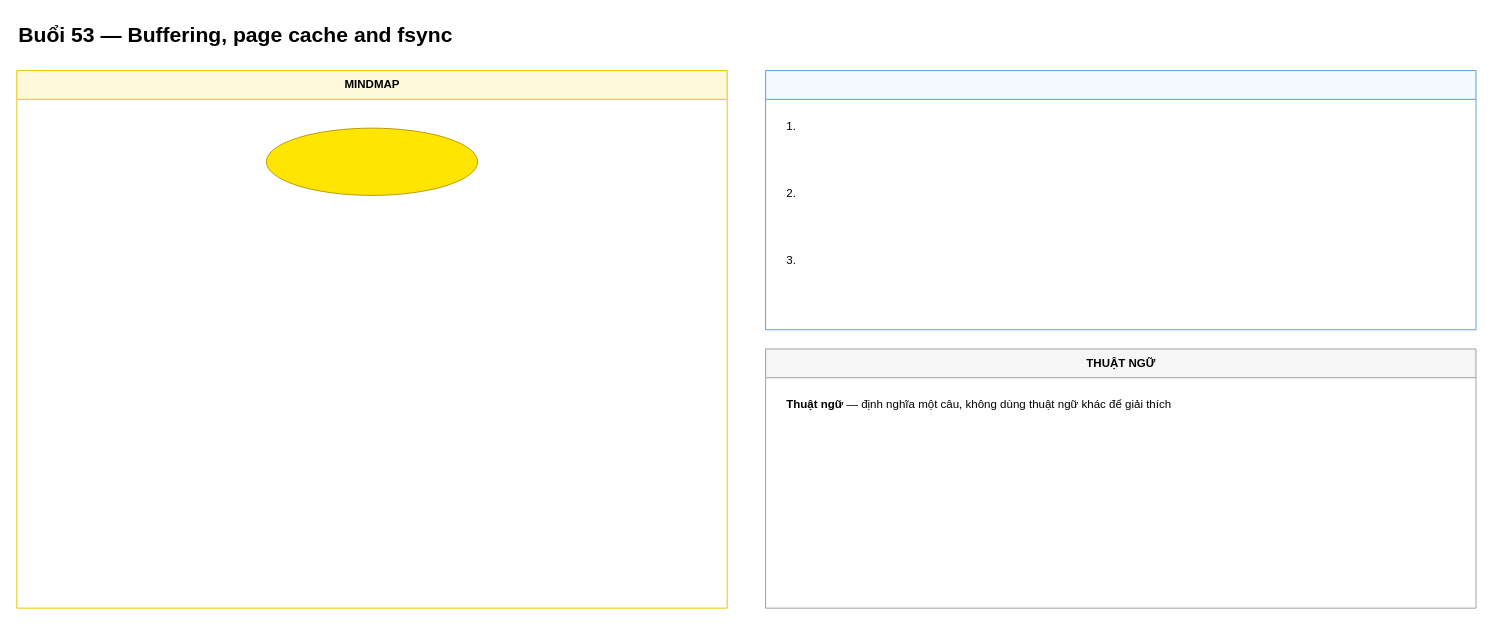
Some shapes in this 1493 by 625 pixel diagram are drawn without their labels. The box of each missing label's shape, as (x1, y1, x2, y2) in pixels:
Buffering, page cache and fsync: (265, 127, 478, 195)
KEY TAKEAWAY — ba điều phải nhớ: (765, 70, 1476, 330)
